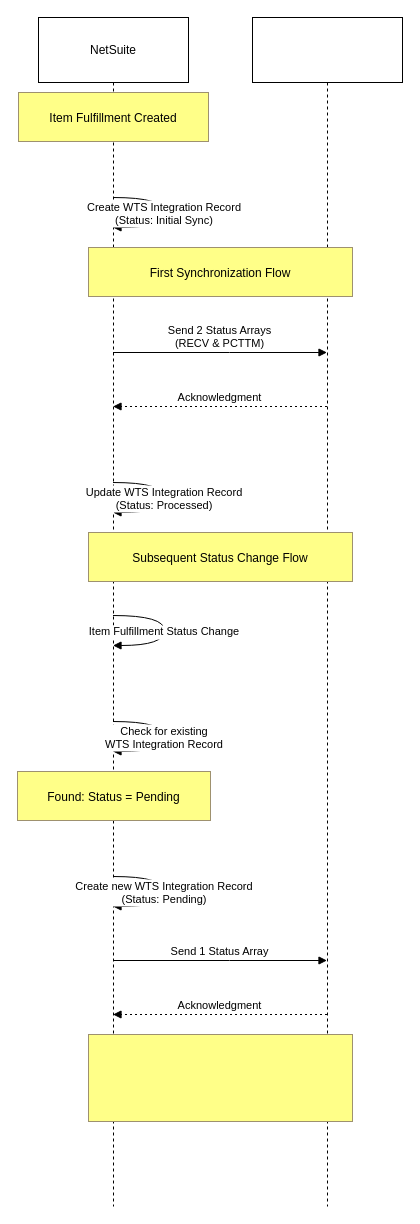
This 420x1224 diagram has some shape labels left out. The centre of each missing label's shape, as x and y in pixels:
"Key Distinction: Initial Sync = 2 Status Arrays Pending = 1 Status Array" belongs at point 220,1078.
"WTS System" belongs at point 327,611.
